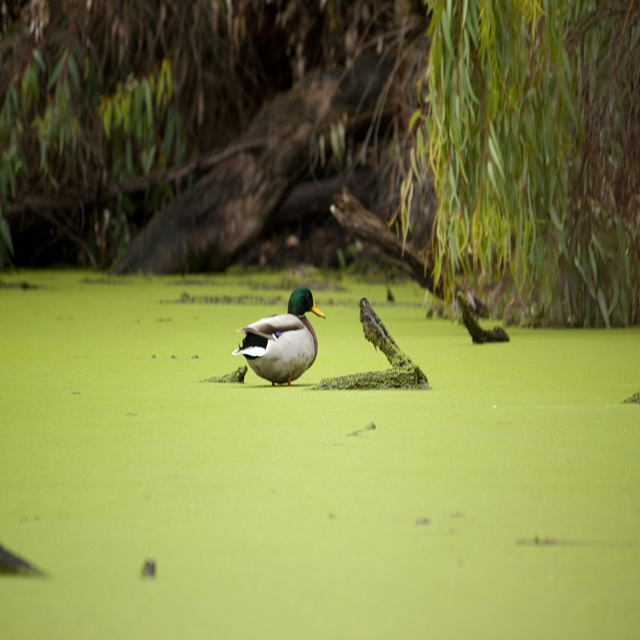Duck: (231, 287, 325, 385)
